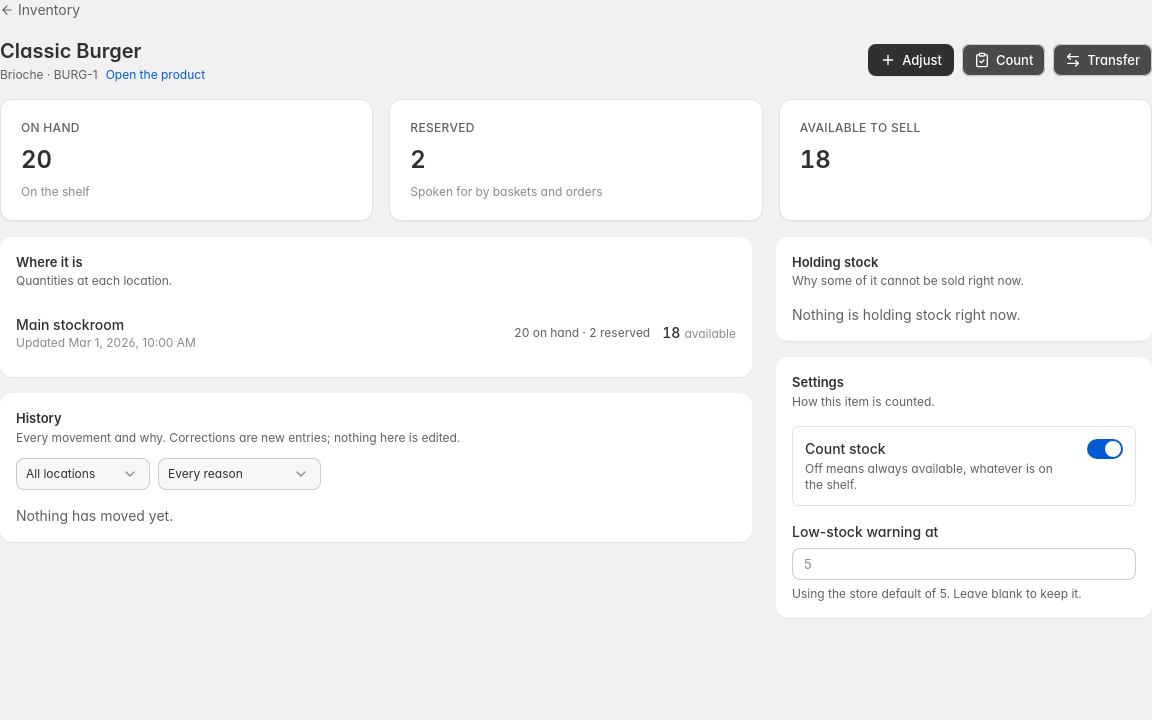
Test: StockMoveDialog › accepts a count of zero, which is a real answer
expect the heading "Classic Burger" is shown: met, box left=0, top=37, right=142, bottom=65
Click the button "Count": (1004, 60) left=962, top=44, right=1045, bottom=76
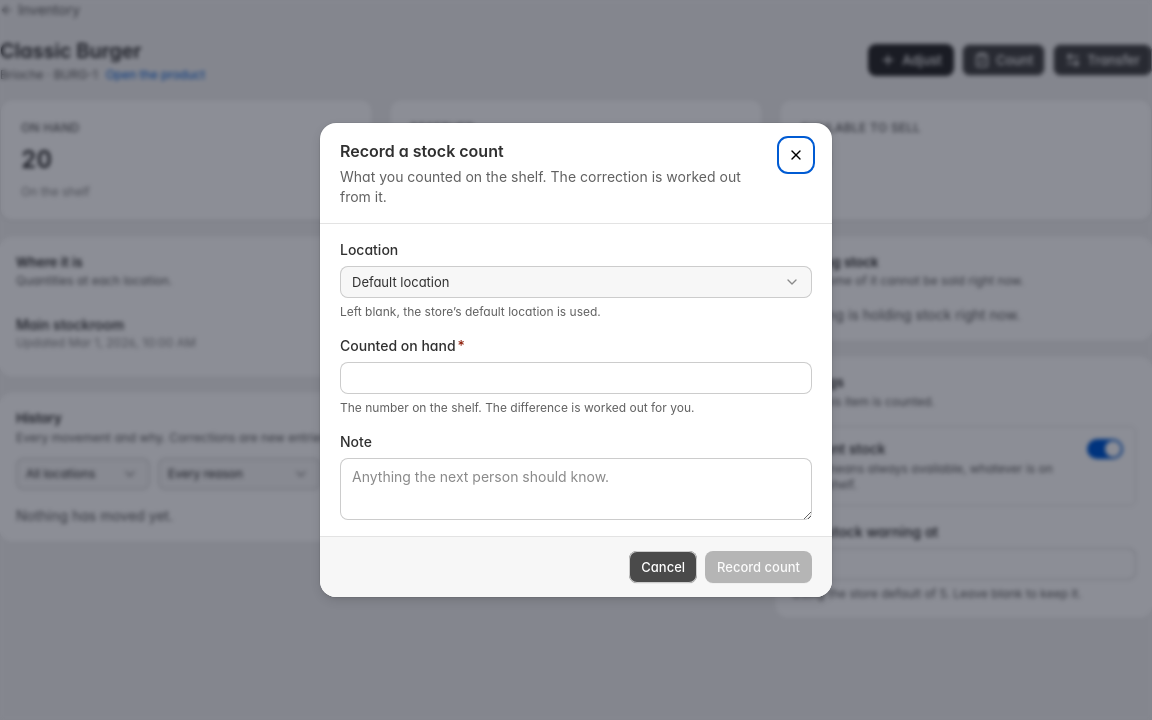
In the number field labelled "Counted on hand*": (576, 378) left=340, top=362, right=812, bottom=394, type "0"
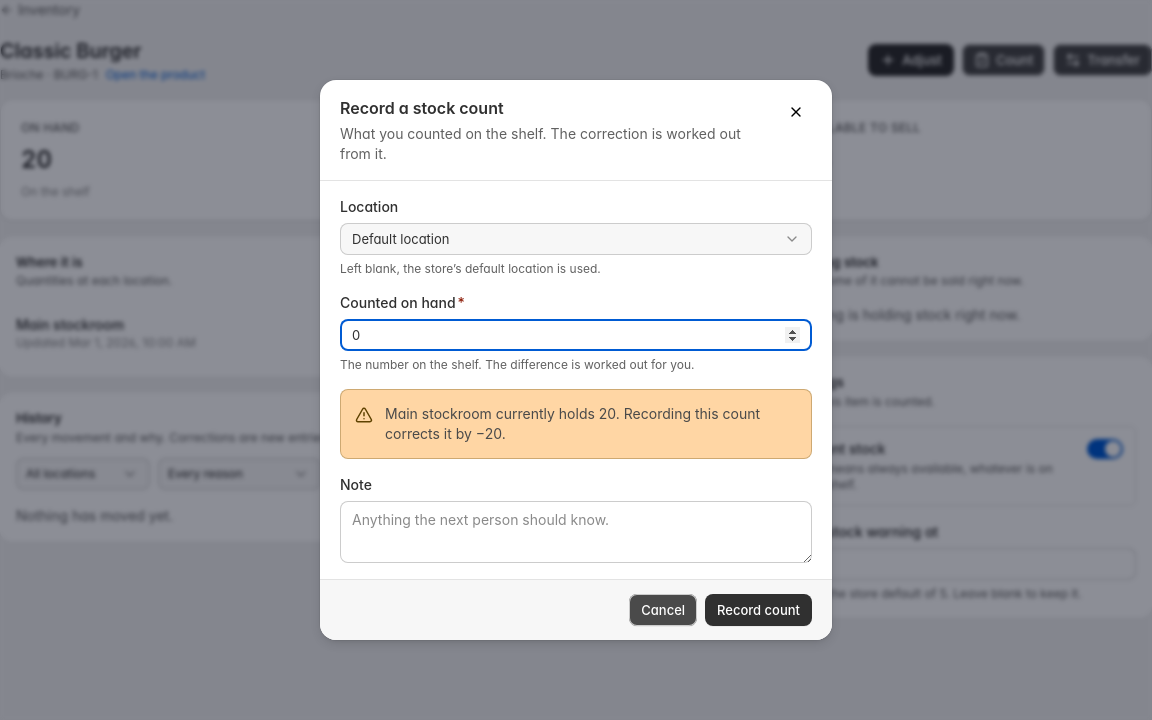
expect the button "Record count" is enabled: met, box left=705, top=594, right=812, bottom=626
